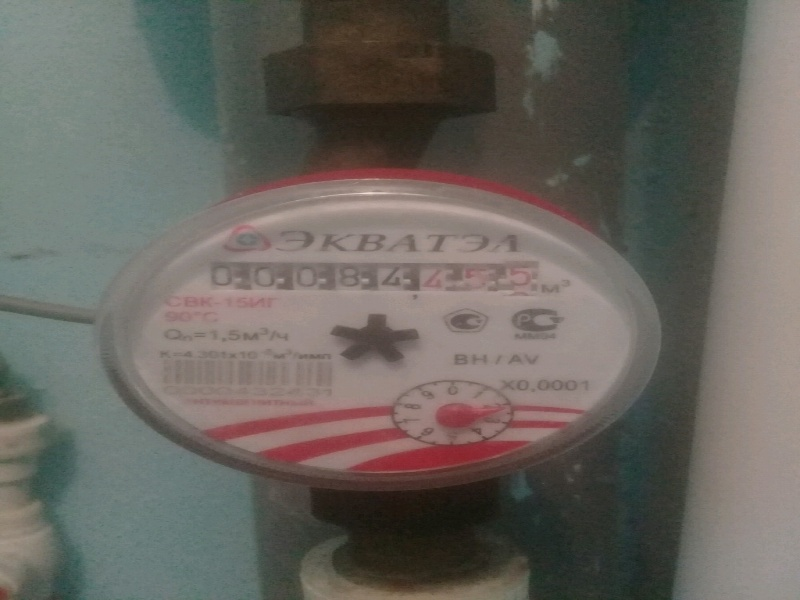meter: (204, 255, 534, 298)
